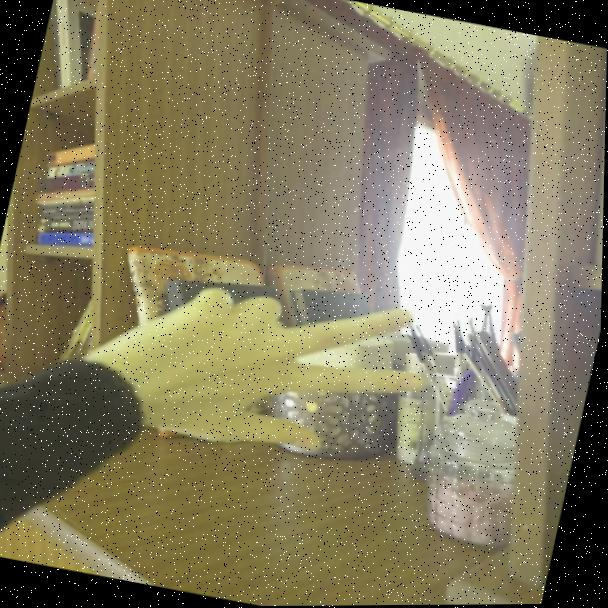three: (50, 231, 475, 545)
